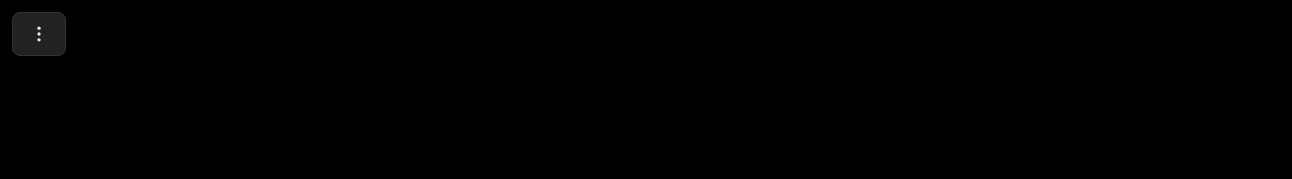
Test: ToolbarMenu › choosing an item runs it and closes the menu
Click the button named "More": (39, 34) [12, 12, 66, 56]
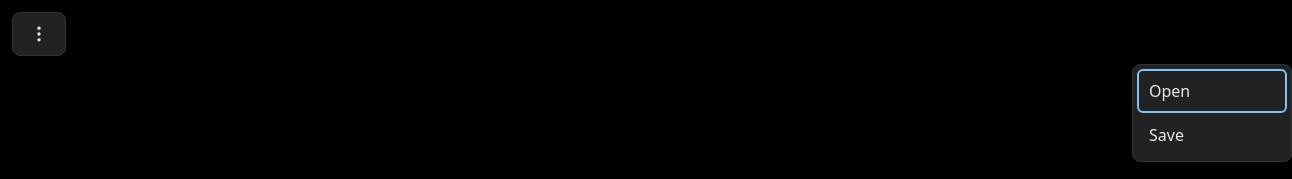
Click the menu item "Open": (1212, 91) [1137, 69, 1287, 113]
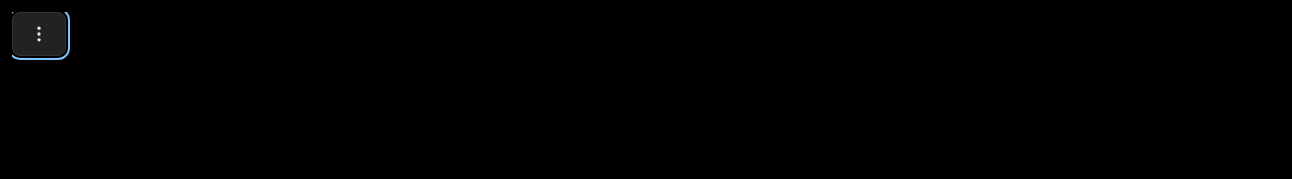
Check: the menu is gone
